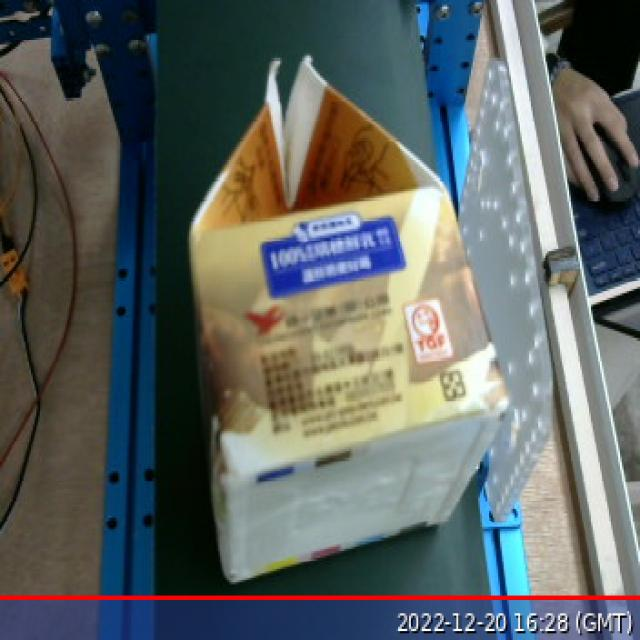non_white_jug: (176, 39, 514, 555)
